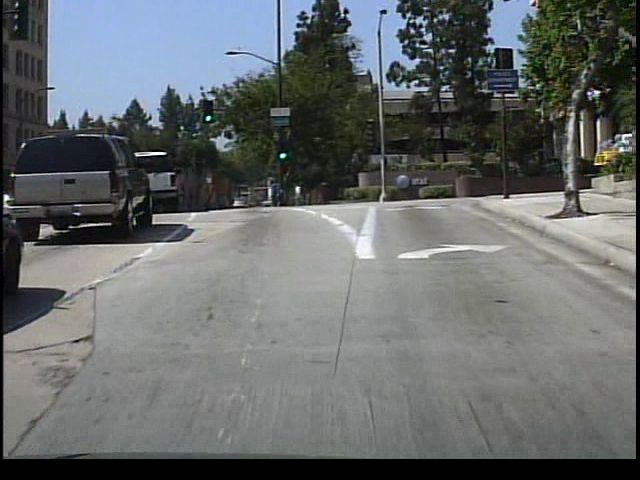person: (265, 172, 286, 209), (292, 179, 307, 207)
